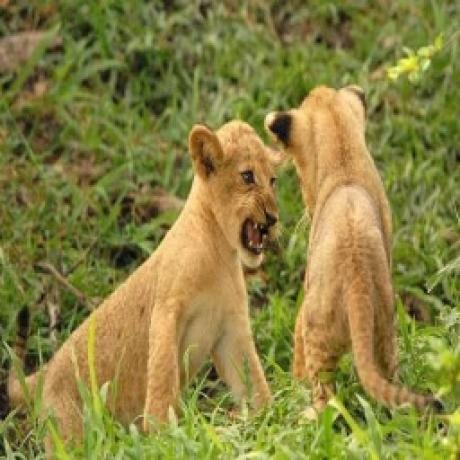Lion: (6, 117, 280, 426), (267, 83, 446, 418)
